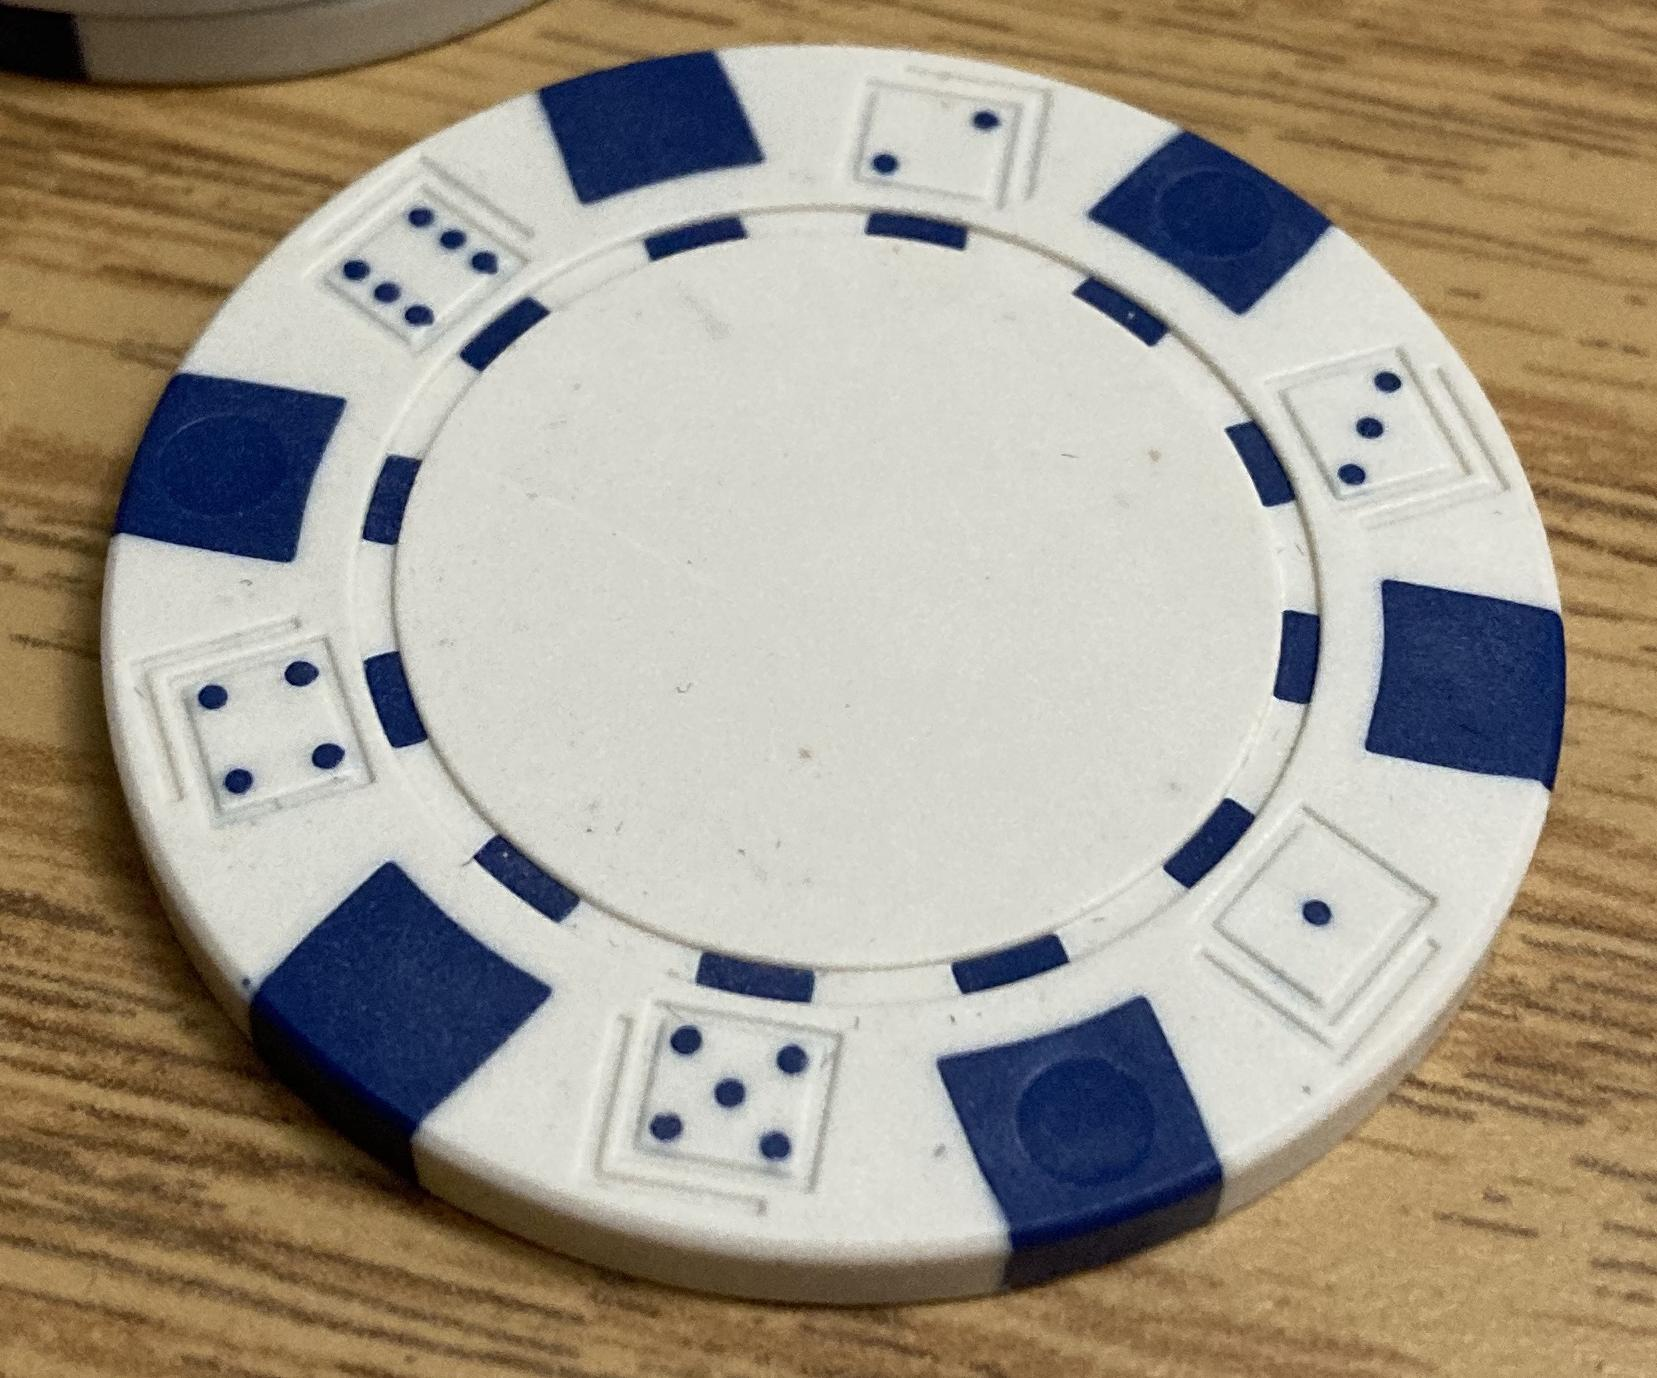Chip: (1, 1, 1657, 1378)
